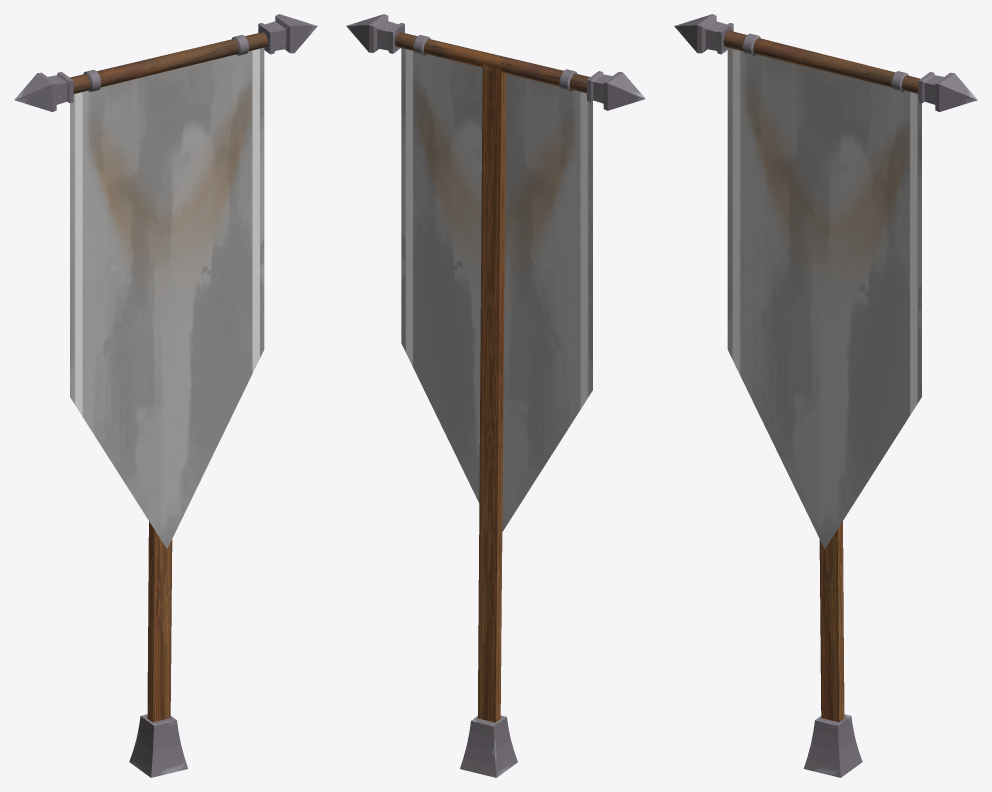
File: Banner_Vertical_2.fbx
3 renders of one model, left to right at view 1: azimuth 30°, elevation 25°; view 2: azimuth 150°, elevation 25°; view 3: azimuth 330°, elevation 25°, orthographic.
Parts seen in each view (by area): view 1: Banner_Vertical_2; view 2: Banner_Vertical_2; view 3: Banner_Vertical_2.
Part boxes in pixels (x1,y1,x2,y2): Banner_Vertical_2: (14,14,317,777); Banner_Vertical_2: (346,14,645,777); Banner_Vertical_2: (674,14,977,777).
Size of the model in its own units: 104 by 235 by 15.25.
